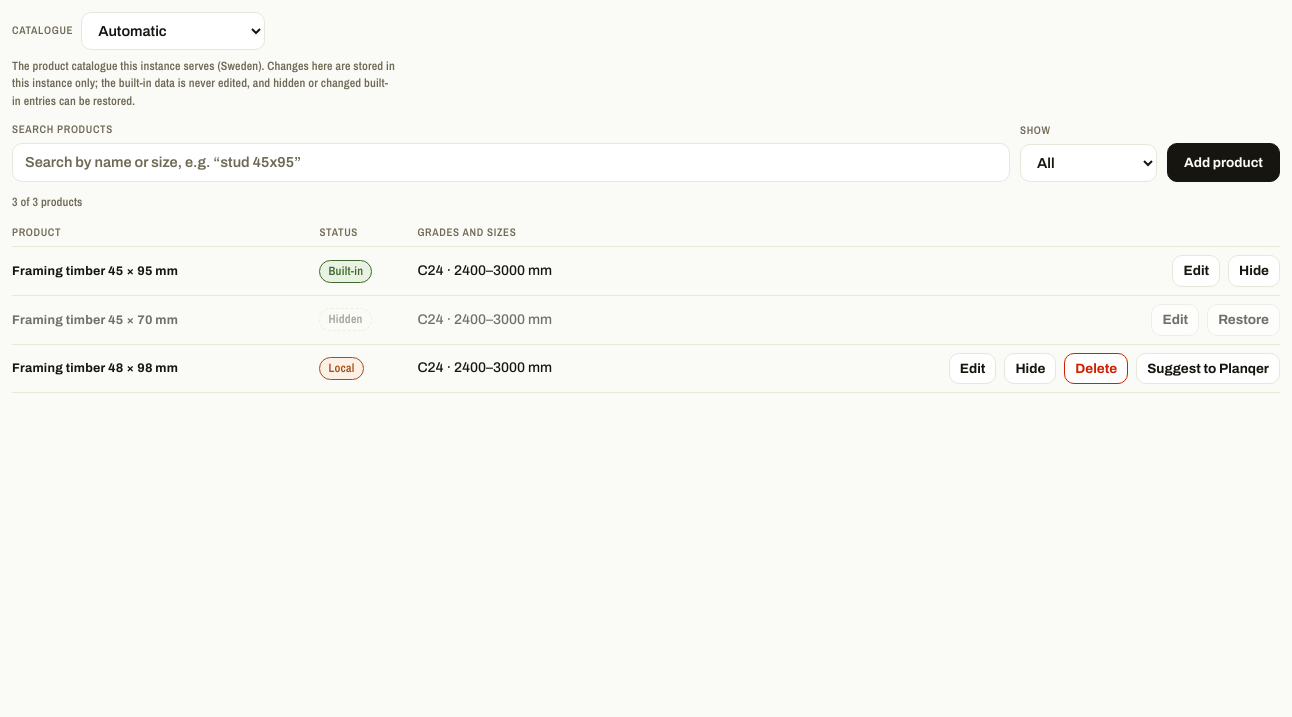
Scenario: AdminCatalogue › explains a missing type instead of sending
Check: the text "Framing timber 45 × 95 mm" is shown, box [12,247,319,296]
Click the button "Add product": (1224, 162) [1167,143,1280,182]
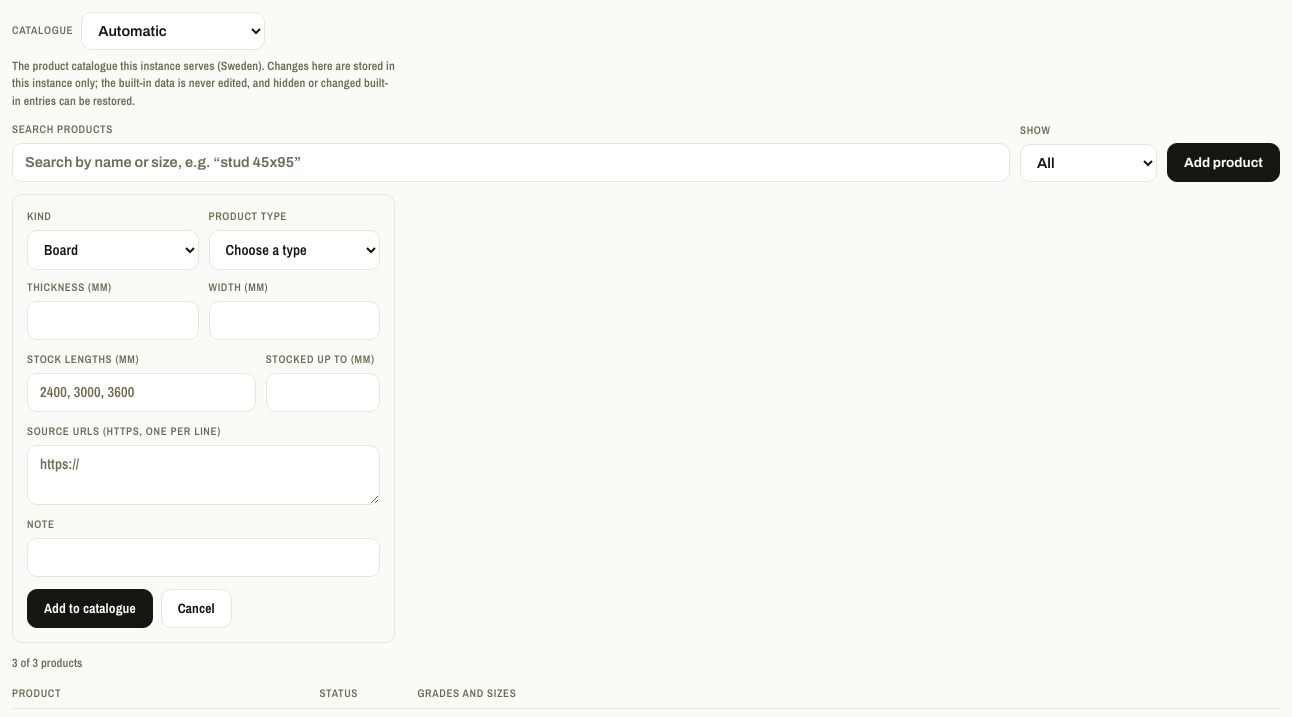
Click the button "Add to catalogue": (90, 609) [27,589,153,628]
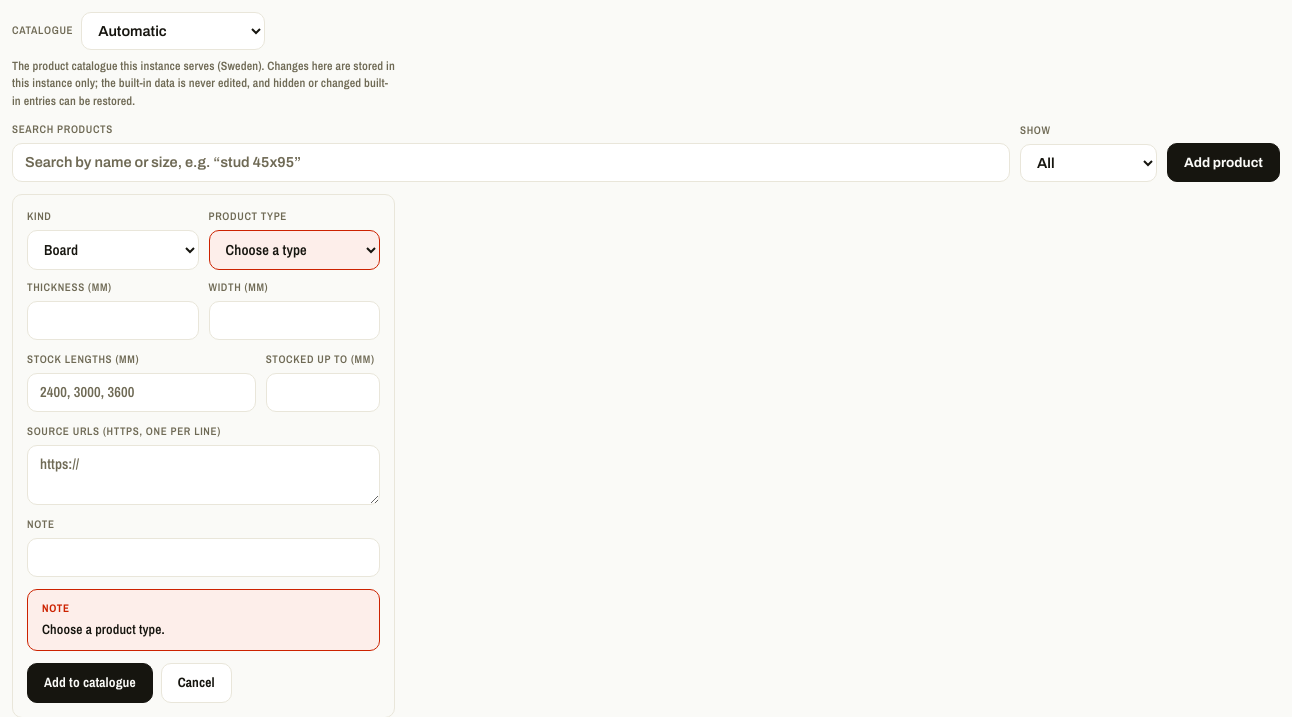
Check: the message "Choose a product type." is shown, box [27,589,380,651]
